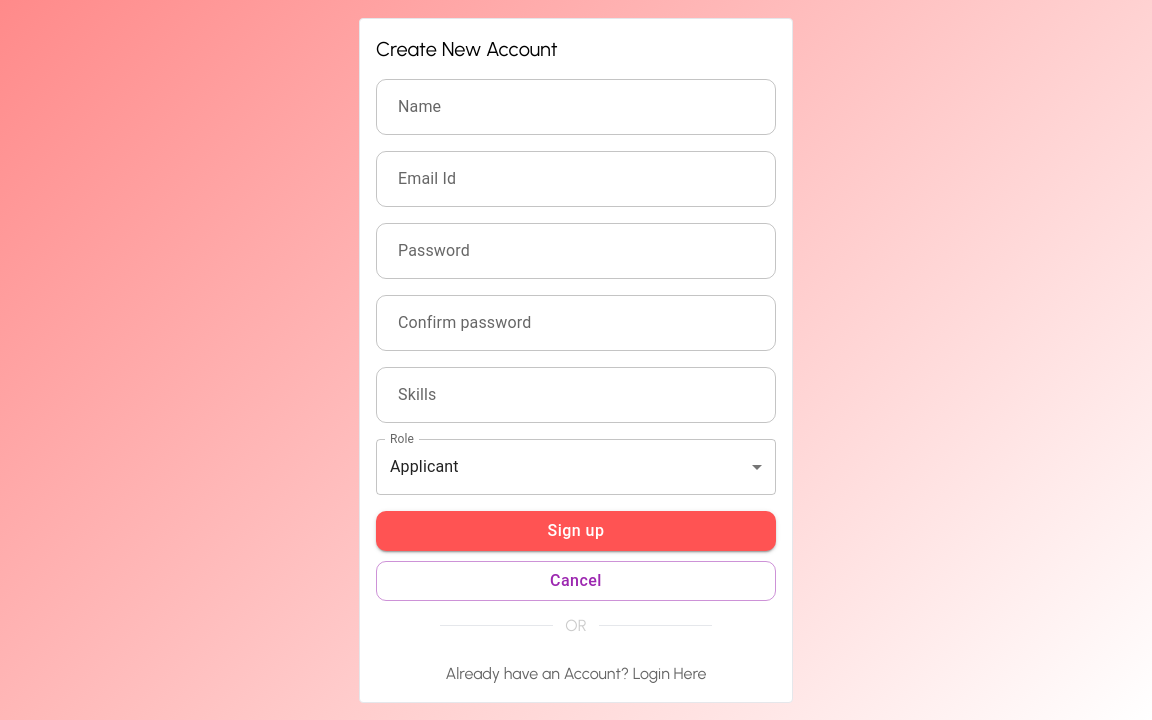
RegistrationPage › renders 'Affiliation' field when 'Manager' role is selected
Step 1. Press the mouse on the dropdown named "Role" → x=424, y=466, box [390,457,459,476]
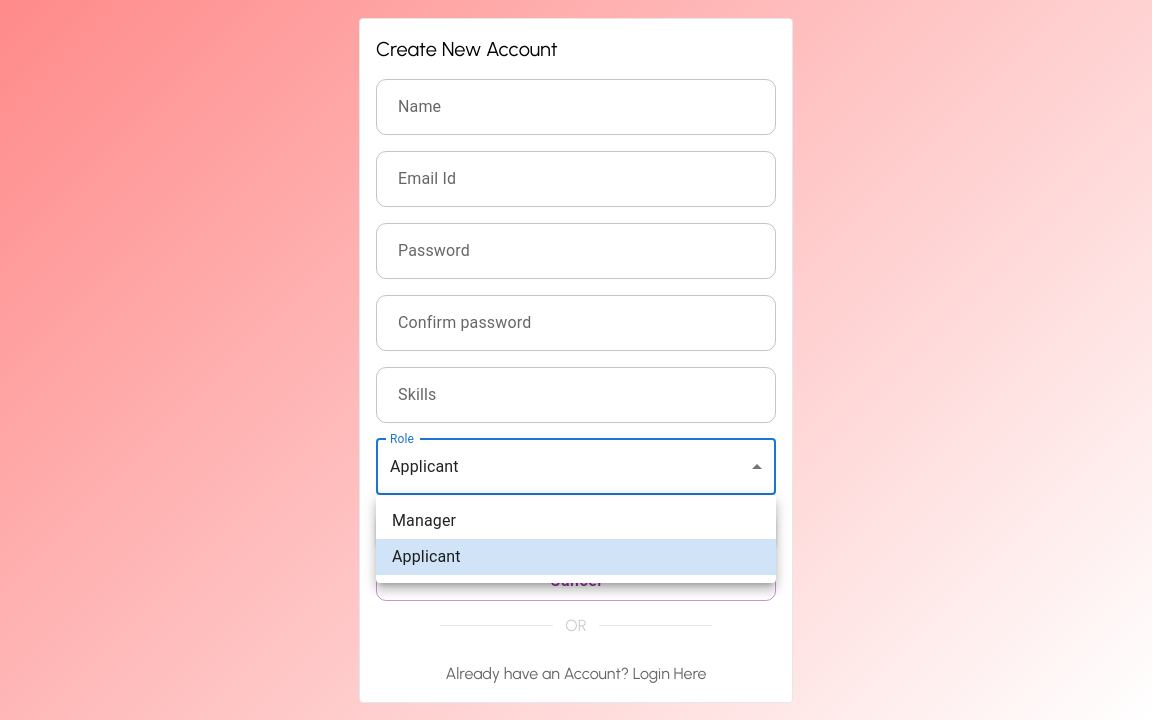
Step 2. Click the option "Manager" → x=424, y=520, box [392,511,456,530]
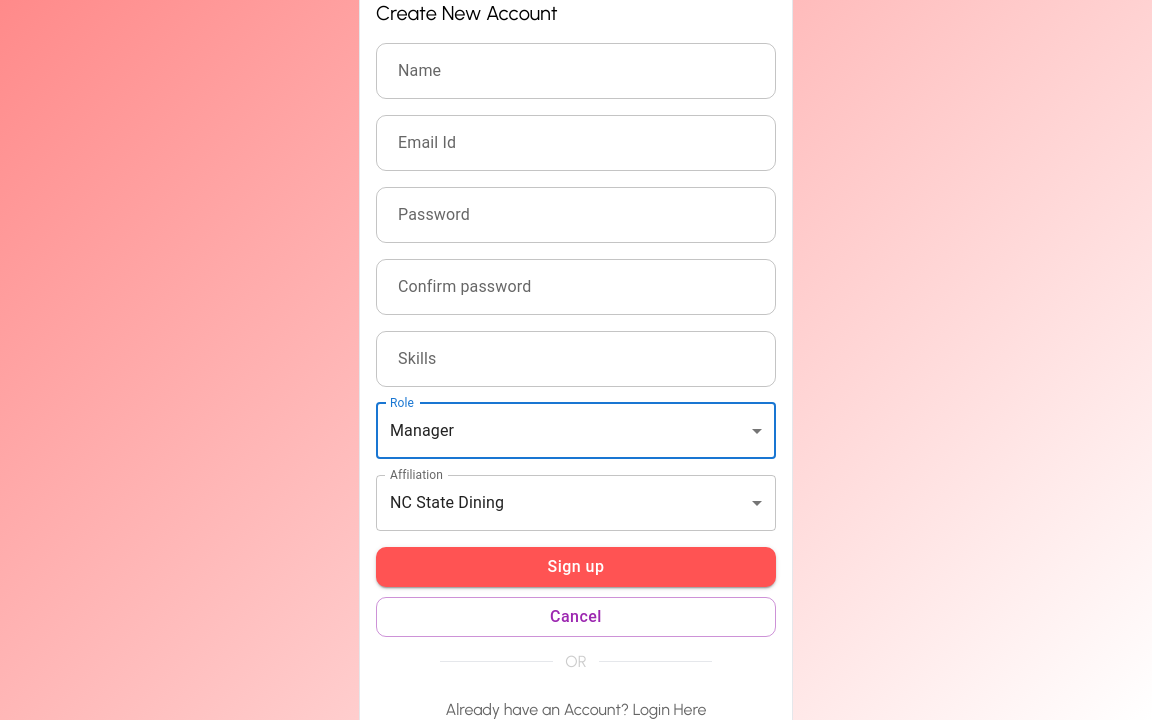
Check: the dropdown named "Affiliation" is shown, box [390,493,504,512]
